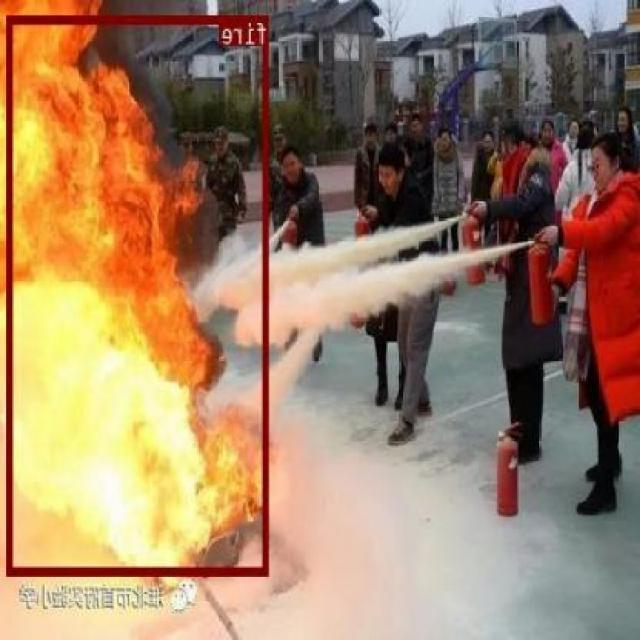Fire: (8, 14, 270, 574)
